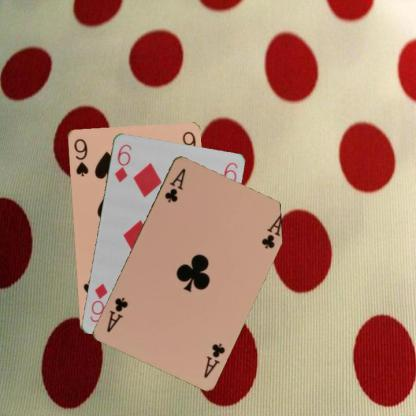6d: (111, 141, 133, 184)
9s: (71, 136, 90, 177)
Ac: (200, 340, 226, 379), (162, 165, 186, 204)
